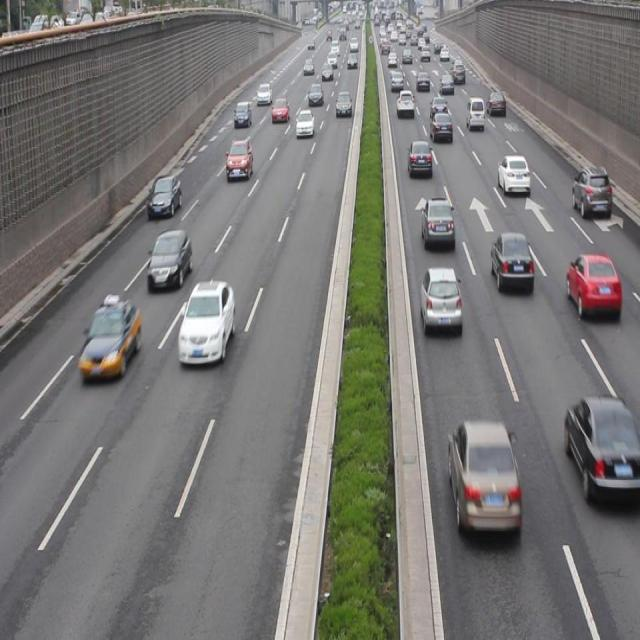car: (446, 419, 520, 534), (563, 395, 640, 499), (177, 279, 234, 366), (78, 300, 140, 379), (565, 251, 619, 319), (146, 228, 191, 293), (419, 266, 461, 334), (489, 231, 533, 292), (571, 164, 610, 221), (420, 197, 454, 251), (146, 173, 181, 220), (495, 153, 529, 198), (225, 138, 252, 183), (408, 137, 432, 178), (430, 111, 452, 145), (295, 108, 314, 137), (234, 101, 252, 130)
truck: (465, 95, 485, 131)
